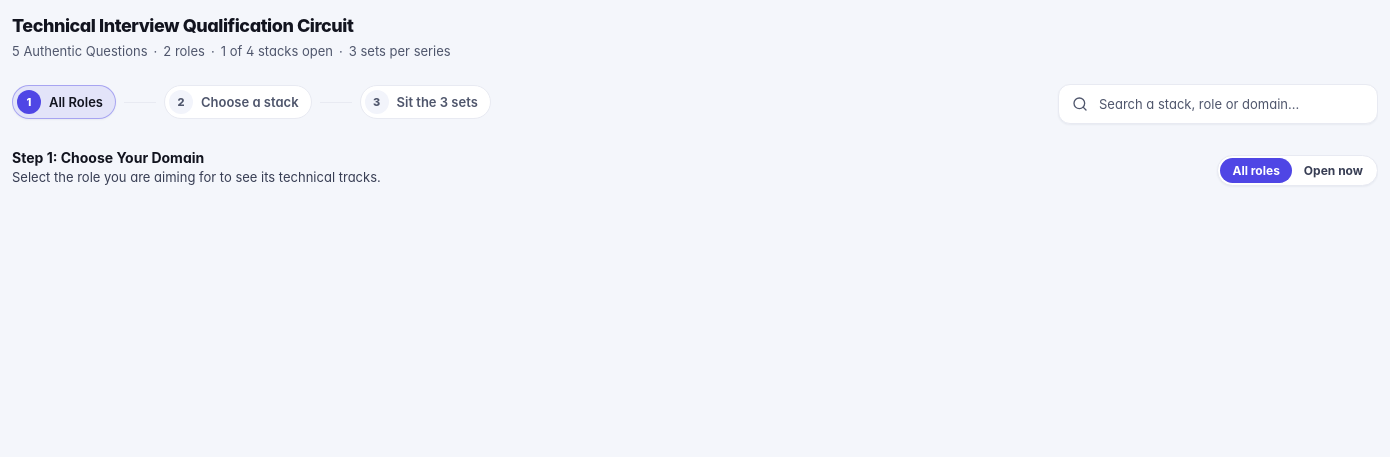
Test: the domain picker › "Open now" hides the roles that have nothing open yet, and "All roles" brings them back
The image size is (1390, 457).
Check: the heading "Step 1: Choose Your Domain" is shown, box top-left (12, 149), bottom-right (204, 166)
Click the button "Open now".
click(1333, 170)  # box top-left (1292, 158), bottom-right (1375, 183)
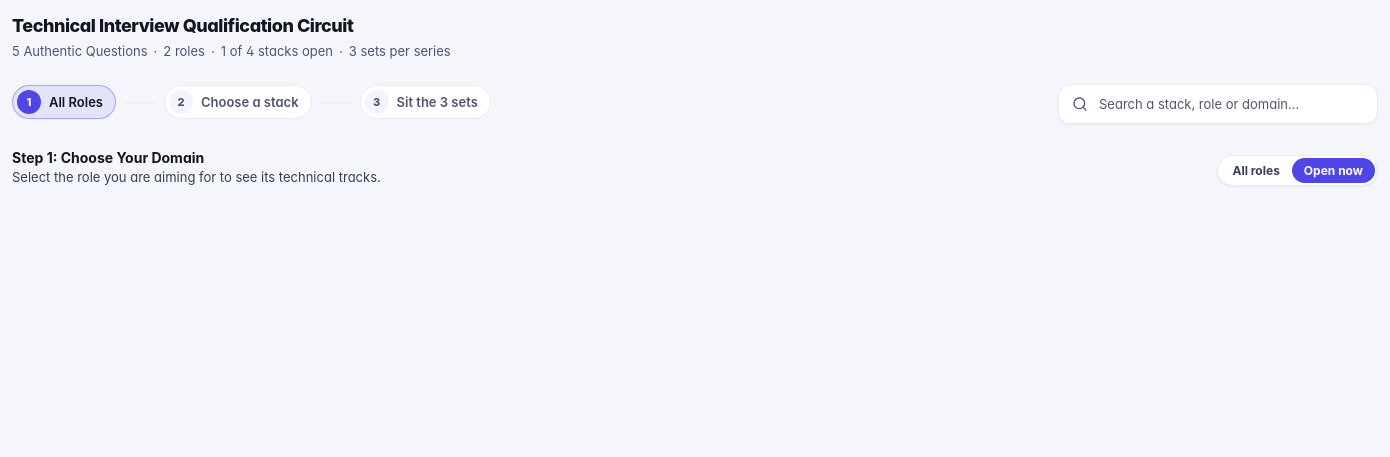
Check: the text "Data Analyst" is not shown
Click the button "All roles".
click(1256, 170)  # box top-left (1220, 158), bottom-right (1292, 183)
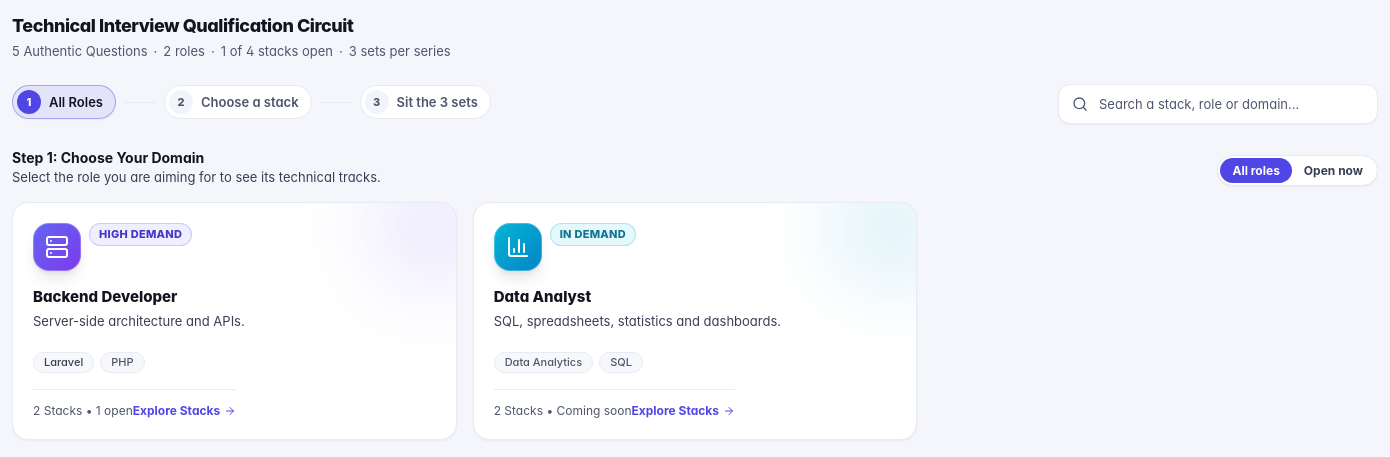
Check: the text "Data Analyst" is shown, box top-left (494, 287), bottom-right (591, 306)
